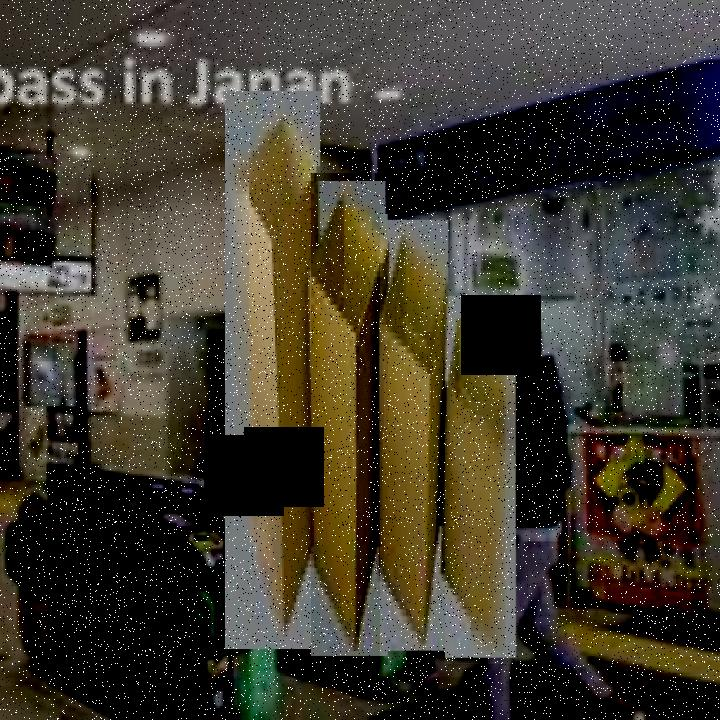box: (224, 83, 323, 658), (312, 173, 390, 665), (381, 214, 450, 658), (445, 290, 517, 664)
